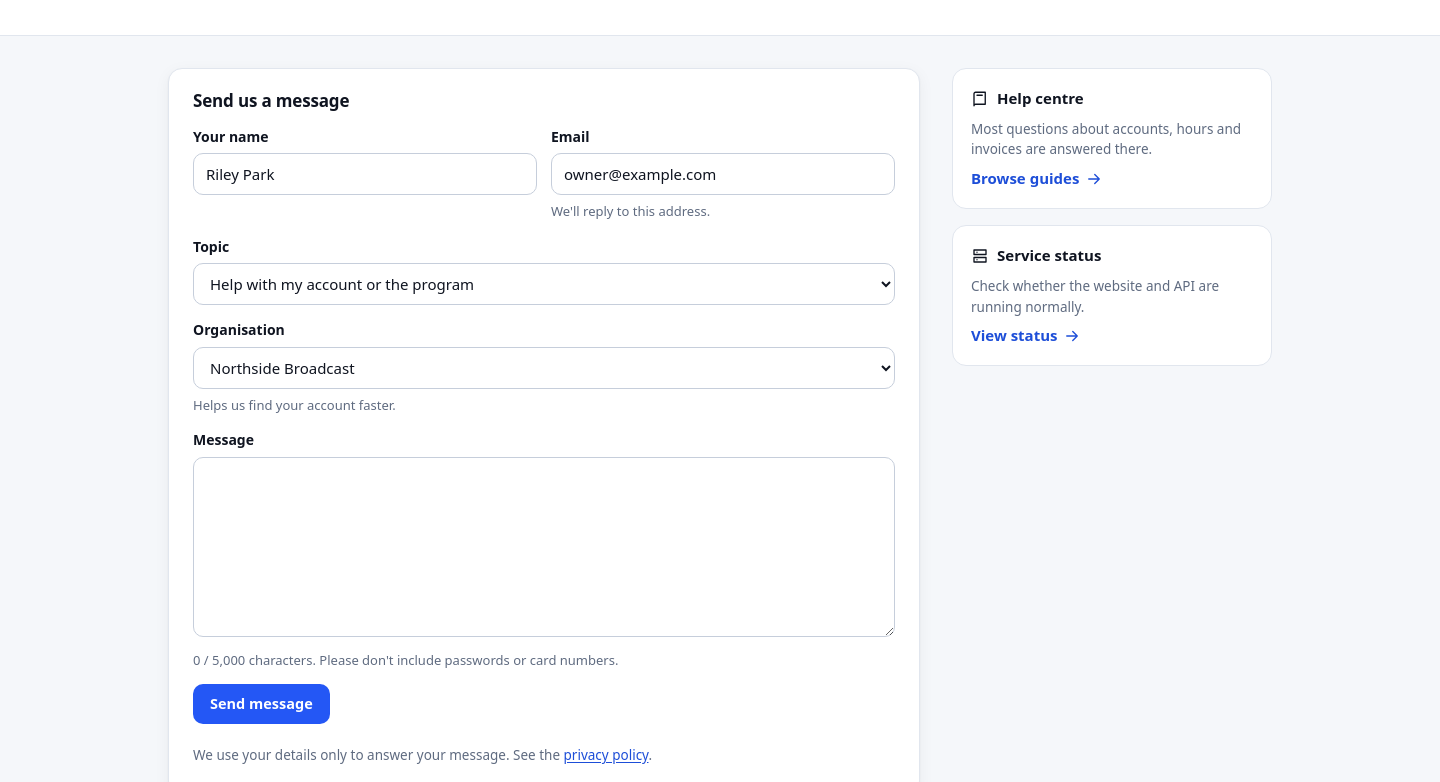
Test: contact form › prefills signed-in details, sends the organisation and explains rate limits
(page scrolled)
Expected: the field labelled "Your name" holds "Riley Park", [193, 153, 537, 195]
Expected: the dropdown labelled "Organisation" shows "Northside Broadcast", [193, 347, 895, 389]
Type "Our computer slot looks wrong after unlinking." into the text box labelled "Message" at (544, 547), box [193, 457, 895, 638]
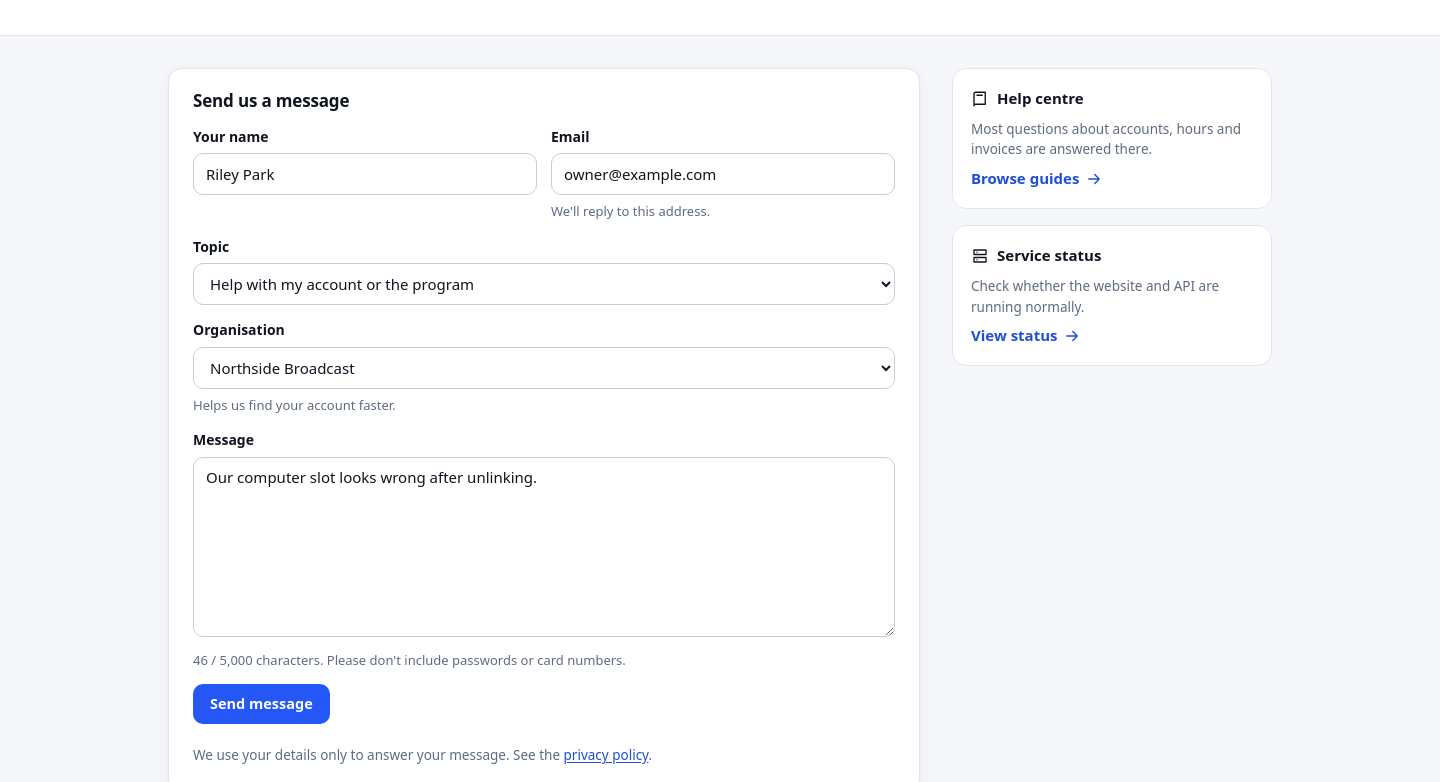
Click the button "Send message" at (261, 704), box [193, 684, 330, 724]
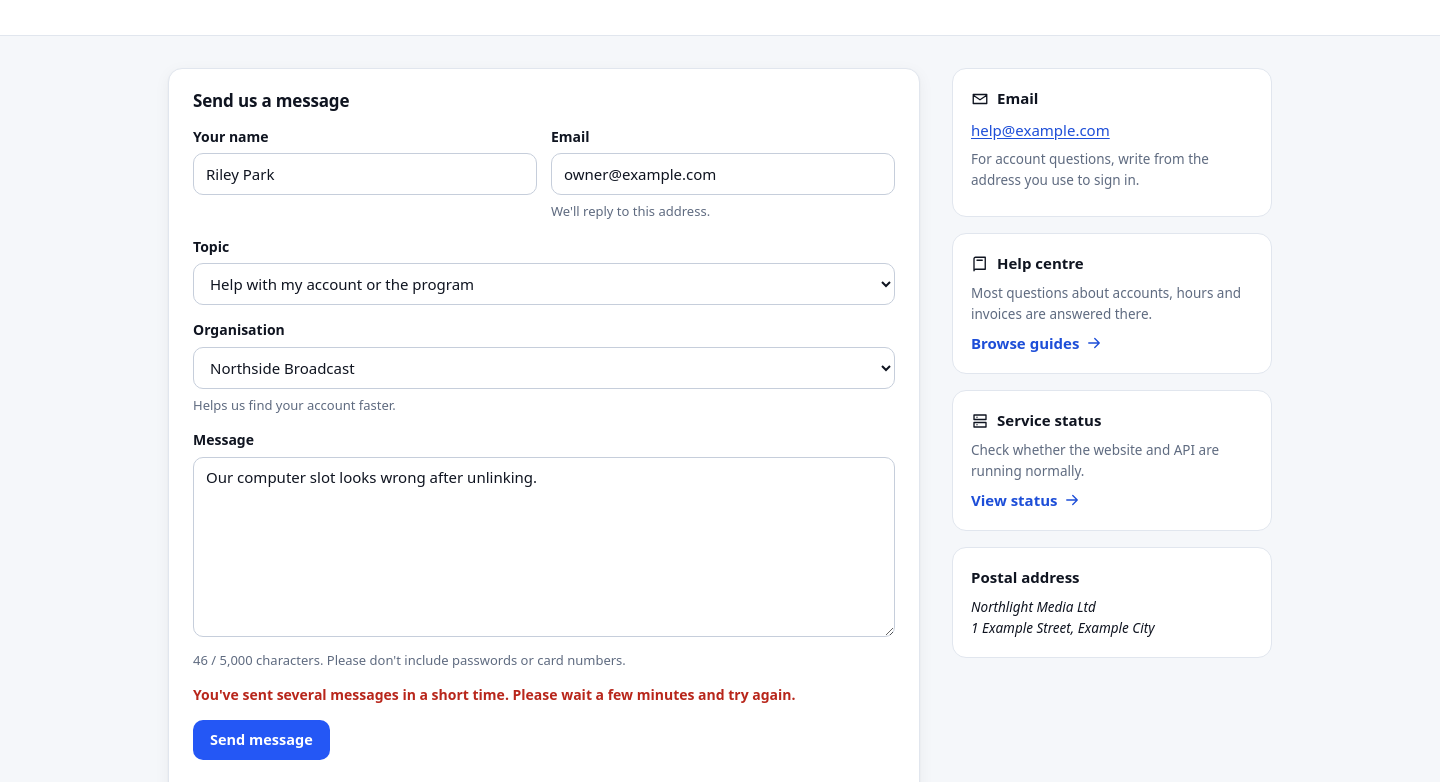
Expected: the text "You've sent several messages in a short time" is shown, [193, 685, 796, 704]
